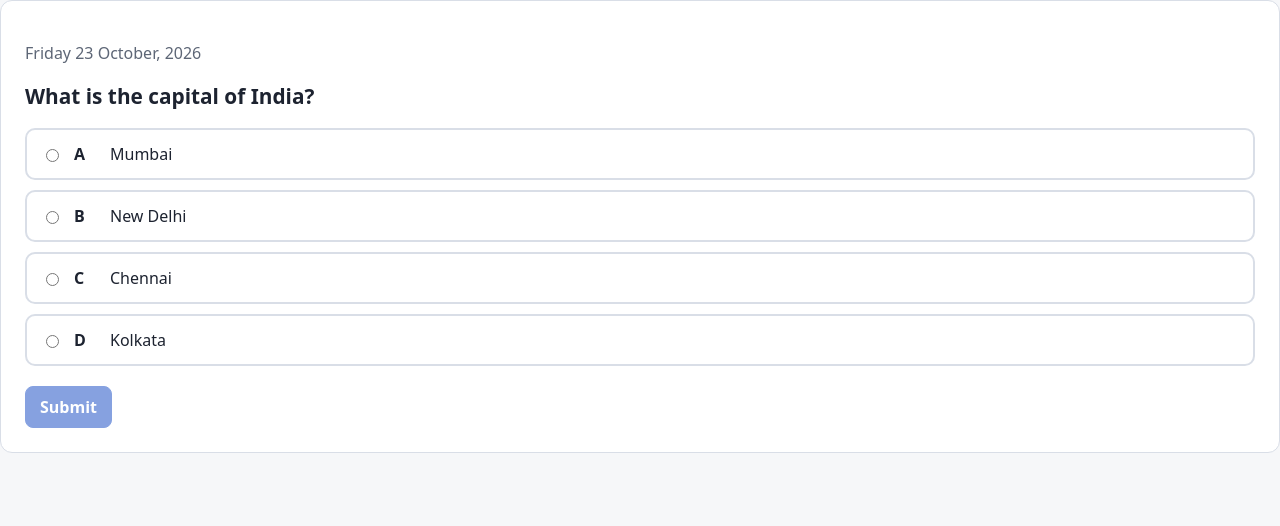
Test: Quiz › submits the selected option text, never its label
The image size is (1280, 526).
Click the radio button labelled "C Chennai" at (52, 280), box x1=46 y1=273 x2=59 y2=286
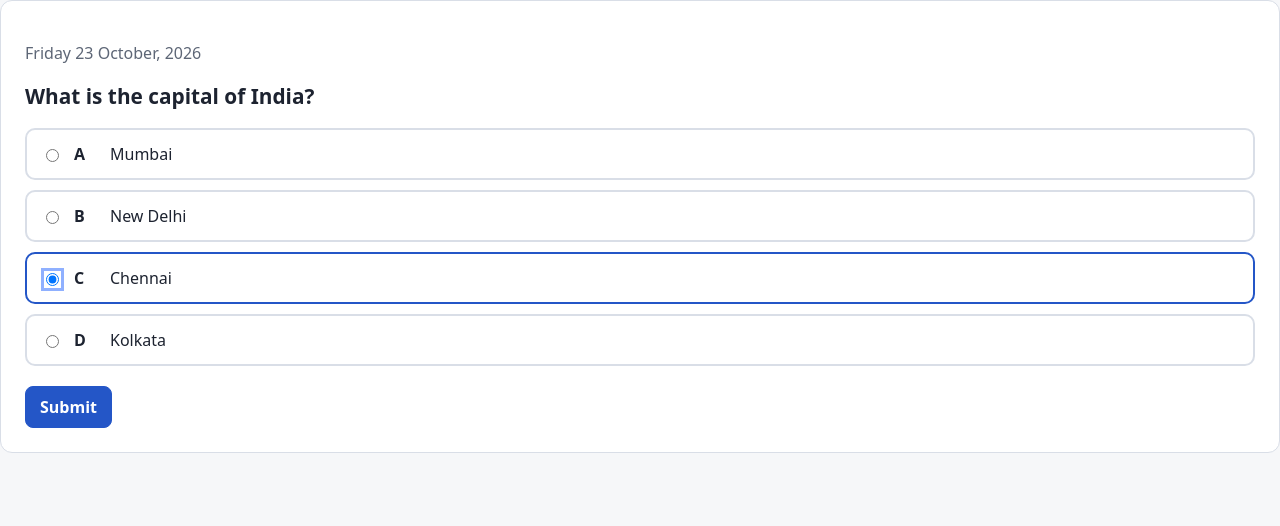
Click the button "Submit" at (68, 407), box x1=25 y1=386 x2=112 y2=428
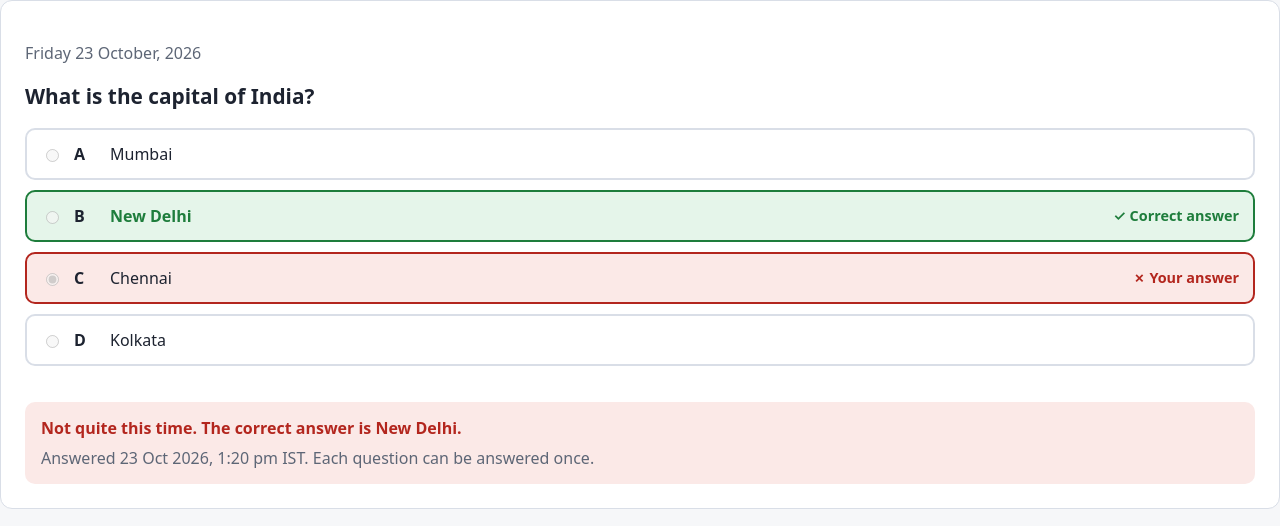
Check: the text "Not quite this time. The correct answer is New Delhi." is shown, box x1=41 y1=417 x2=462 y2=439
